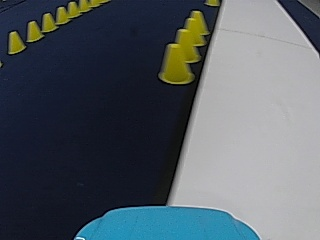cone: (158, 41, 192, 84), (172, 28, 199, 63), (182, 10, 207, 43), (7, 30, 25, 54), (26, 20, 42, 41), (41, 12, 55, 31), (55, 6, 67, 24), (66, 1, 78, 16)
